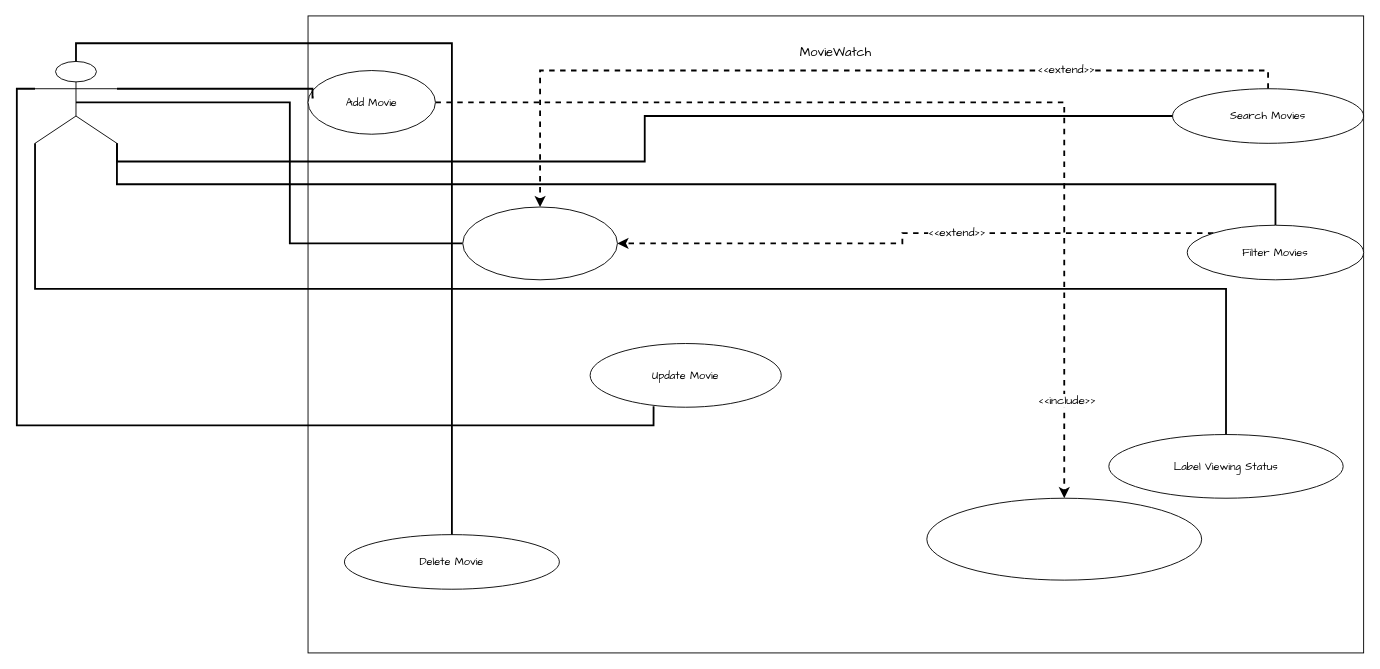
The diagram is 1380 pixels wide and 669 high, and some of its shapes have lost their labels. The shapes that lost their labels are listed below. From the top down, each one's box as (x1, y1, x2, y2) in pixels, then its label:
(34, 61, 117, 143): User
(462, 206, 617, 280): View Movies
(926, 497, 1202, 580): Enter Movie Information
